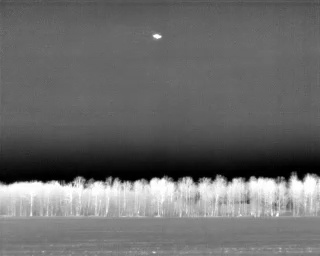DRONE: (149, 29, 166, 44)
